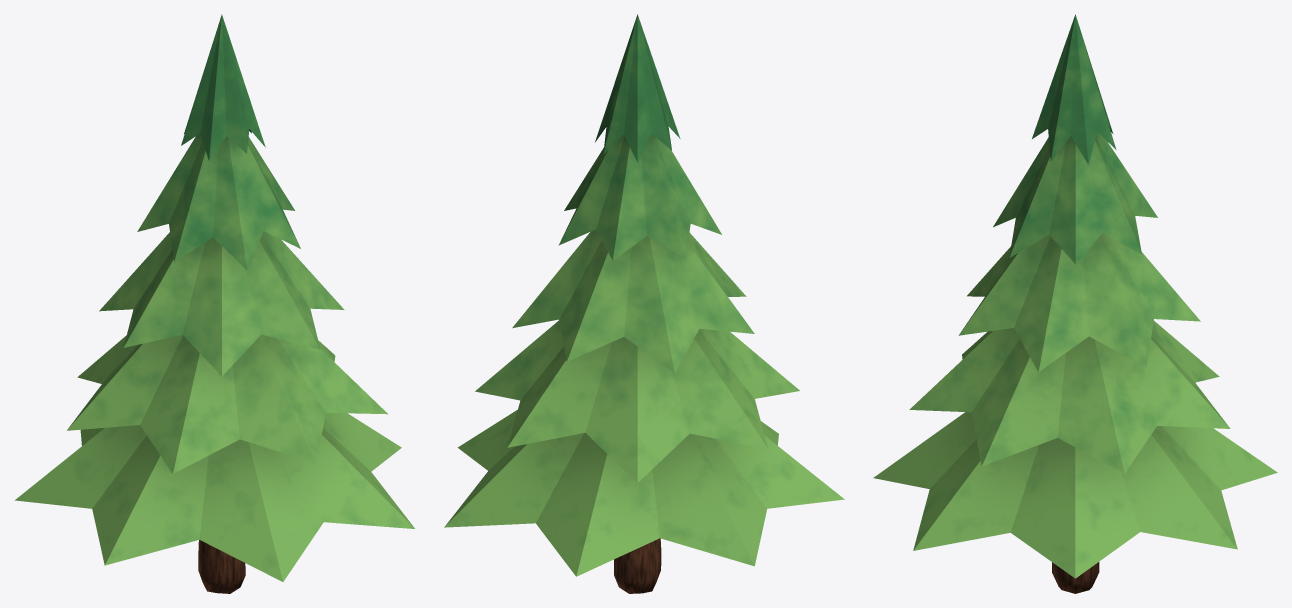
The model's file is Env_Pine_1.glb.
3 renders of one model, left to right at view 1: azimuth 30°, elevation 25°; view 2: azimuth 150°, elevation 25°; view 3: azimuth 270°, elevation 25°, orthographic.
Parts seen in each view (by area): view 1: Env_Pine_1.001; view 2: Env_Pine_1.001; view 3: Env_Pine_1.001.
Boxes of the visible parts, x1,y1,x2,y2 form: Env_Pine_1.001: [15, 14, 414, 593]; Env_Pine_1.001: [444, 14, 844, 593]; Env_Pine_1.001: [873, 14, 1277, 593].
Bounding box in the file's own units: 8.66 × 14 × 8.89.
1 material, 1 textured.
